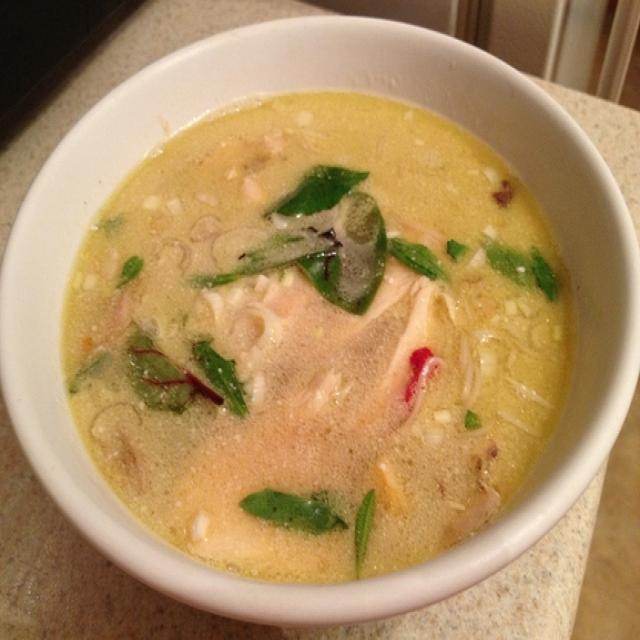汤锅炖物: (21, 31, 606, 597)
